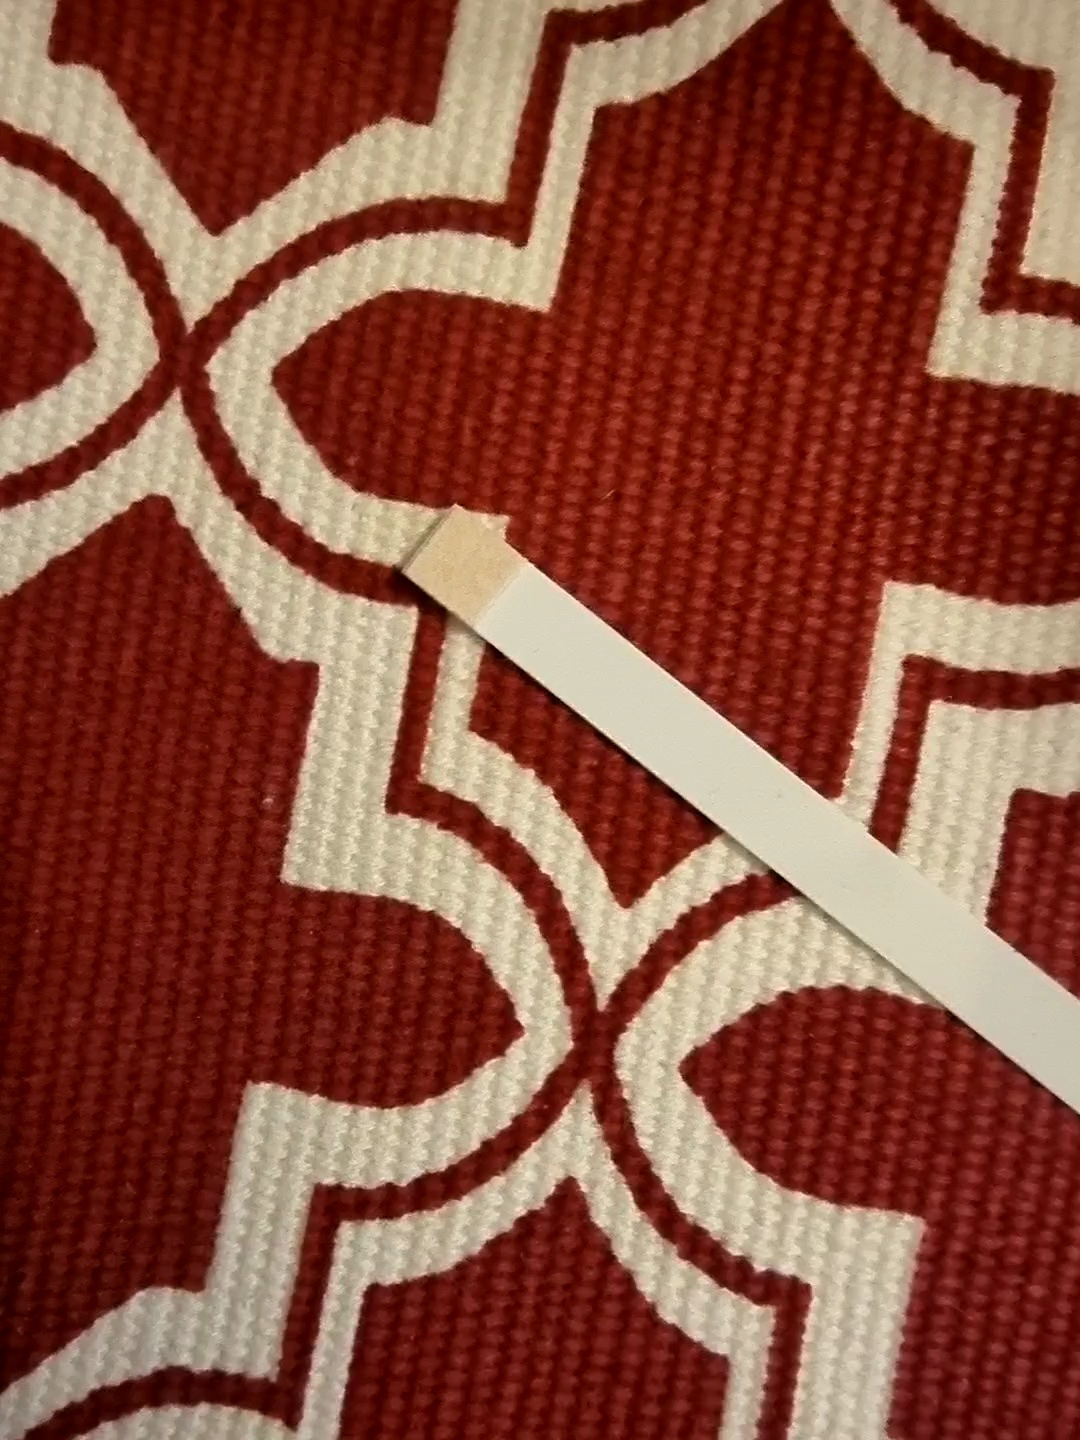keto-tip: (393, 501, 535, 634)
